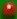red: (0, 0, 17, 19)
